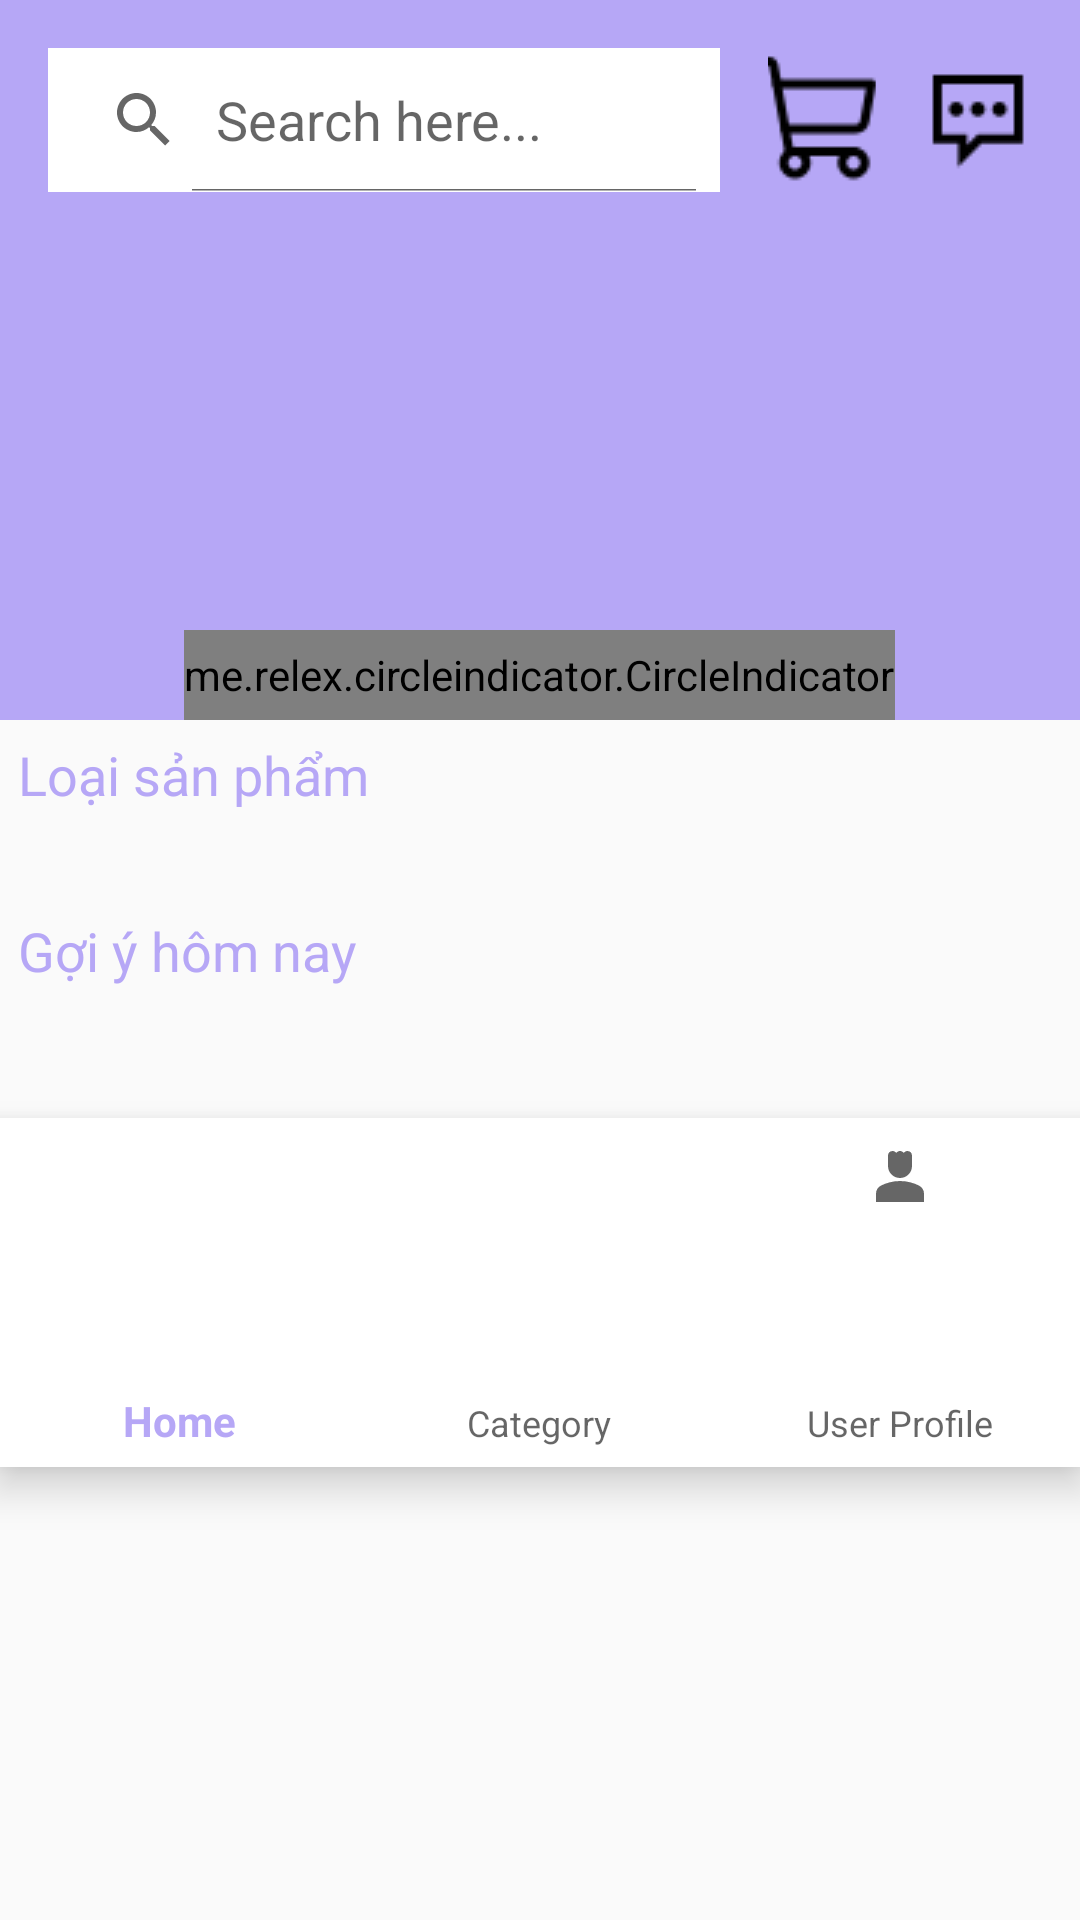

Named icons in this screenshot (1080 x 1920) and their centers, (x,y):
Cart: (822,118)
Chat: (978,121)
